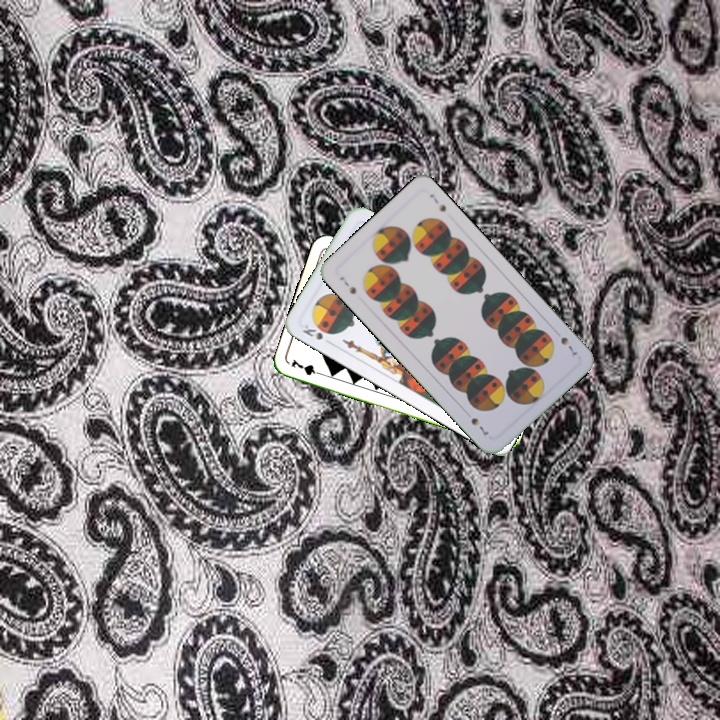G7: (287, 356, 327, 379)
S7: (556, 333, 580, 360), (335, 272, 359, 297)
SK: (298, 320, 335, 342)
